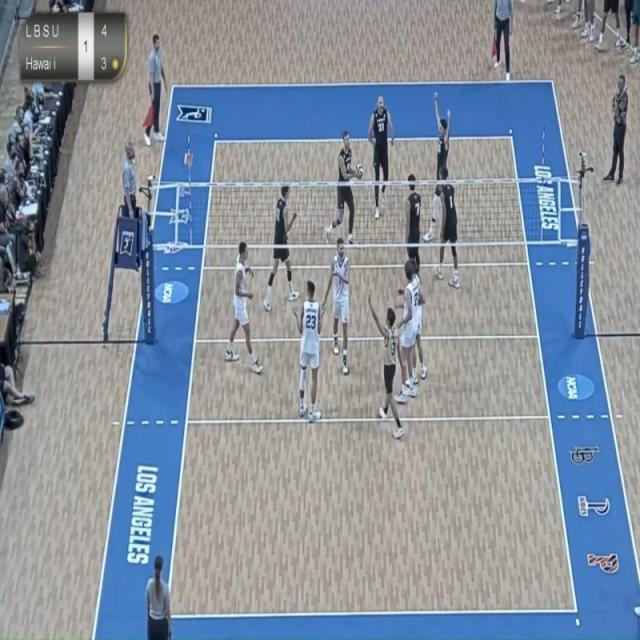volleyball: (352, 158, 368, 181)
